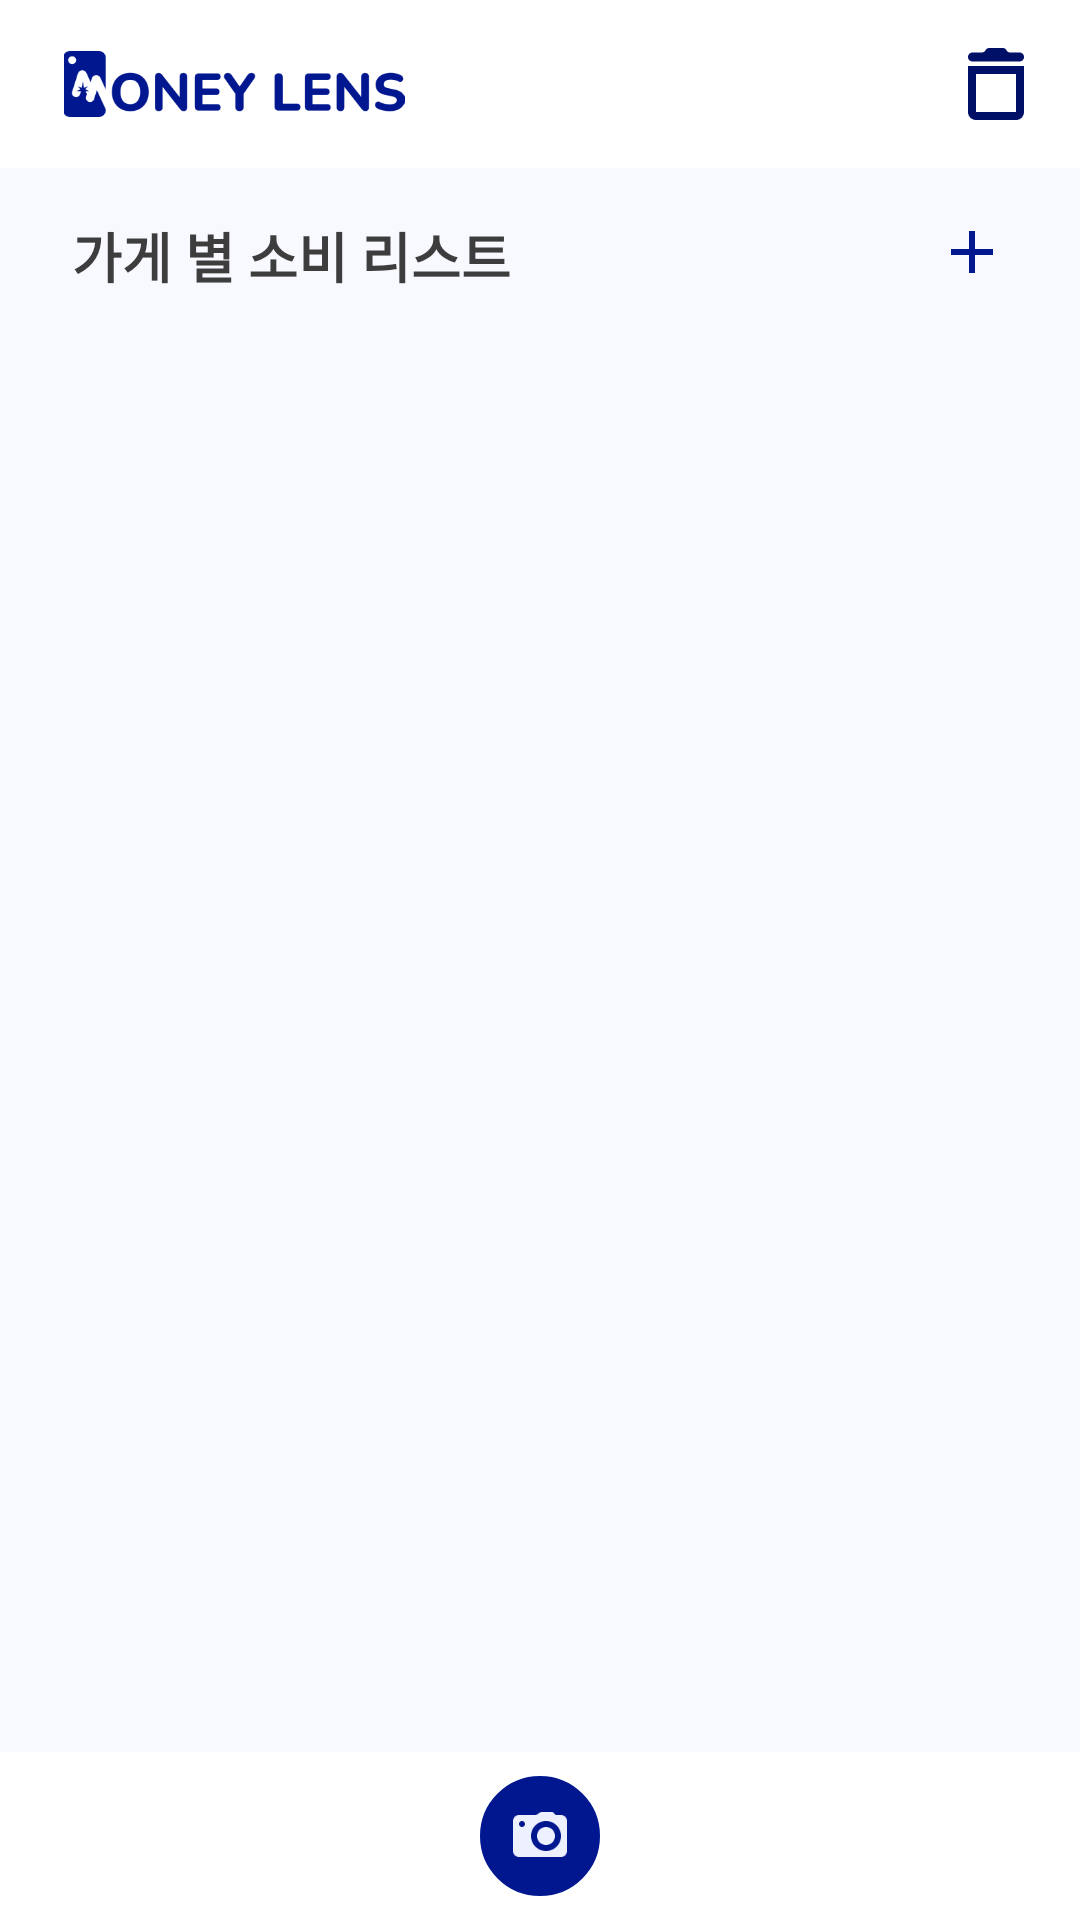

Screen size 1080px x 1920px. Icon name, then its center in pixels as (x=x, y=y):
add: (x=972, y=252)
camera: (x=540, y=1834)
